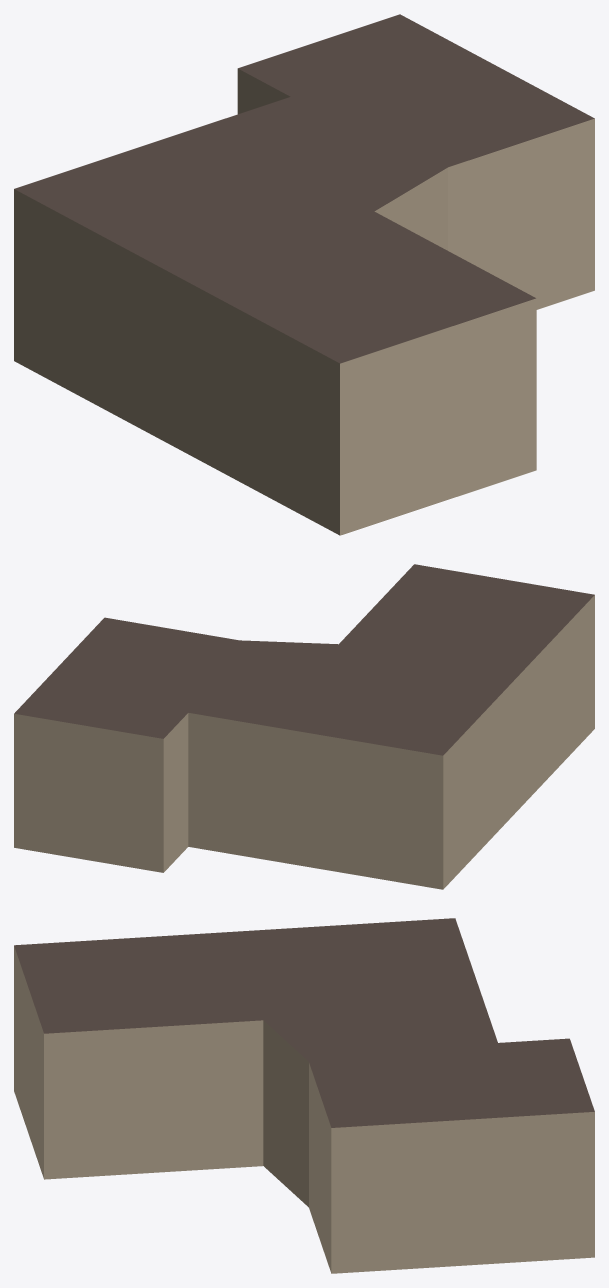
3 renders of one model, top to bottom at view 1: azimuth 30°, elevation 25°; view 2: azimuth 150°, elevation 25°; view 3: azimuth 270°, elevation 25°, orthographic. The views are drawn at different scales.
Visible parts, largest first — view 1: HP-w1367350943; view 2: HP-w1367350943; view 3: HP-w1367350943.
Part boxes in pixels (bbox=[...]): HP-w1367350943: bbox=[14, 14, 594, 535]; HP-w1367350943: bbox=[14, 564, 594, 889]; HP-w1367350943: bbox=[14, 918, 594, 1273].
Bounding box in the file's own units: 27.79 × 9 × 32.51.
